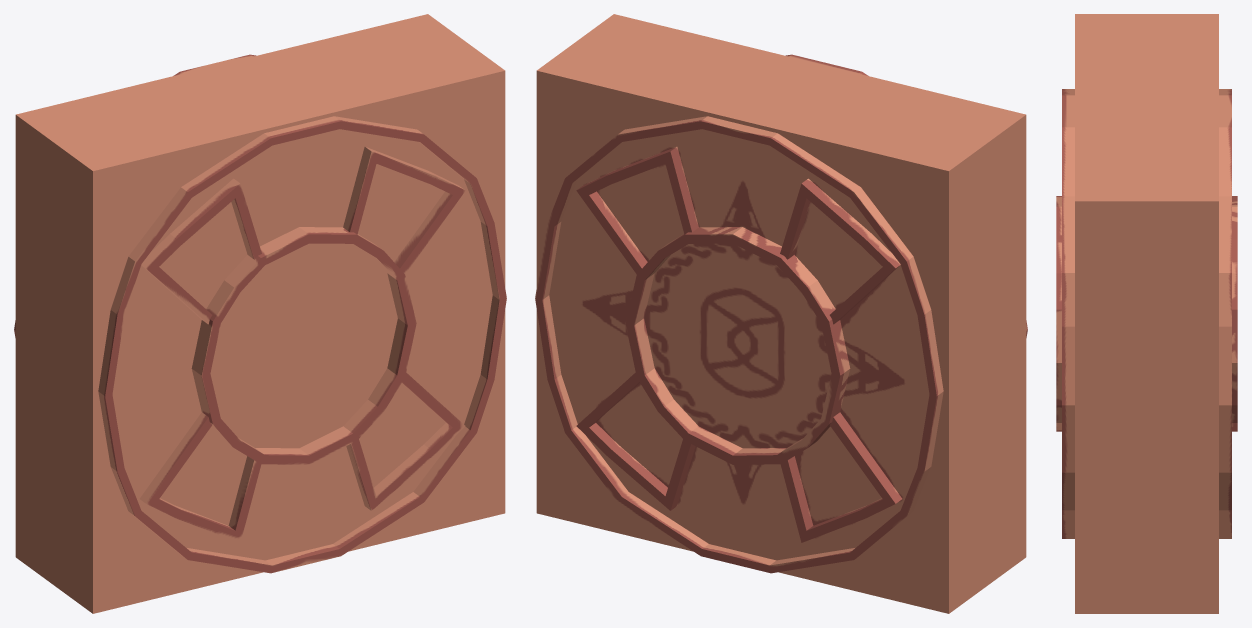
Rendered from ObjM_Door.fbx.
3 views of the same model, side by side, from view 1: azimuth 30°, elevation 25°; view 2: azimuth 150°, elevation 25°; view 3: azimuth 270°, elevation 25° (orthographic). The views are drawn at different scales.
Visible parts, largest first — view 1: door; view 2: door; view 3: door.
Boxes of the visible parts, <box> form: door: <box>14,14,506,613</box>; door: <box>535,14,1027,613</box>; door: <box>1056,14,1237,613</box>.
Bounding box in the file's own units: 524 × 538 × 214.
1 material, 1 textured.
